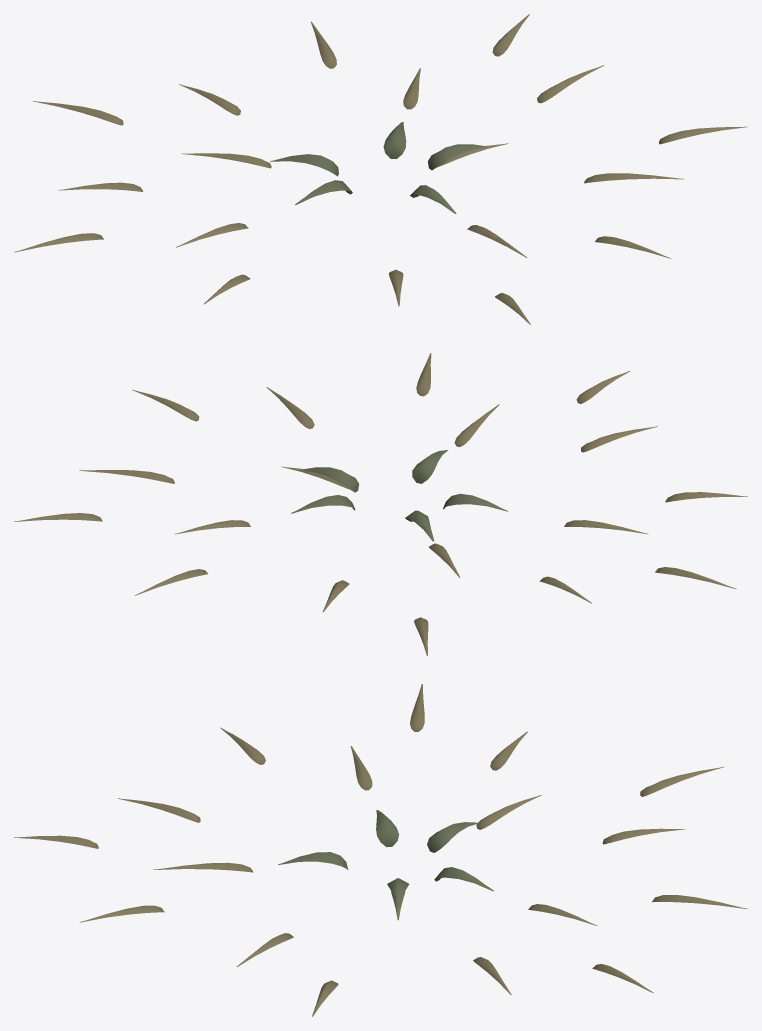
The picture shows the model from 3 angles, top to bottom: view 1: azimuth 30°, elevation 25°; view 2: azimuth 150°, elevation 25°; view 3: azimuth 270°, elevation 25°; orthographic projection. The views are drawn at different scales.
Visible parts, largest first — view 1: ground_litter_near; view 2: ground_litter_near; view 3: ground_litter_near.
Part boxes in pixels (x1,y1,x2,y2): ground_litter_near: (14,14,747,324); ground_litter_near: (14,353,747,655); ground_litter_near: (14,684,747,1016).
Size of the model in its own units: 1.57 by 0.0407 by 1.46.
